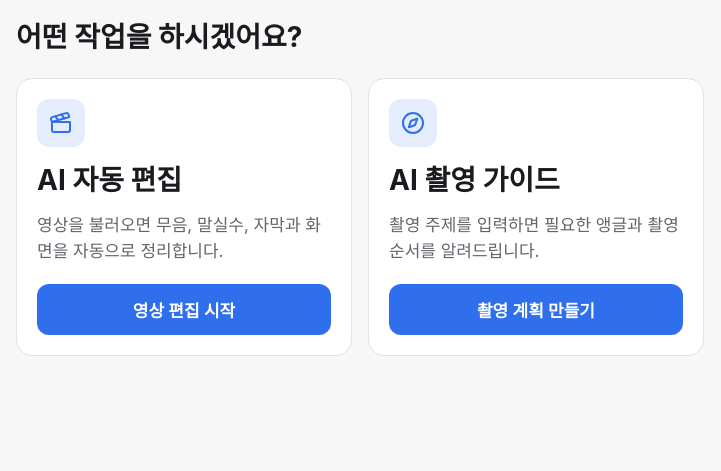
Test: 2. AUTO_EDIT 진입 › "영상 편집 시작"을 누르면 1/9 영상 불러오기 단계로 이동한다
Click the button "영상 편집 시작" at (184, 310), box [37,284,331,335]
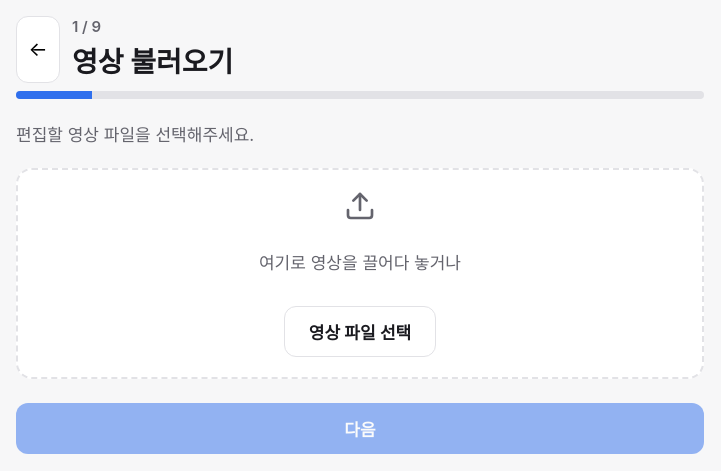
Now the text "1 / 9" is shown, box [72,17,101,36]
Now the heading "영상 불러오기" is shown, box [72,44,233,78]
